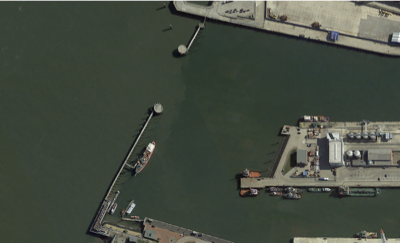boat: (134, 140, 156, 176), (338, 184, 383, 197), (238, 168, 262, 178), (300, 114, 330, 122), (239, 187, 261, 197), (357, 230, 379, 238), (308, 186, 332, 193), (284, 185, 304, 193), (126, 202, 136, 215), (284, 193, 303, 199), (267, 186, 283, 192), (111, 202, 118, 214), (271, 191, 283, 196), (131, 215, 140, 219), (121, 208, 125, 213)
